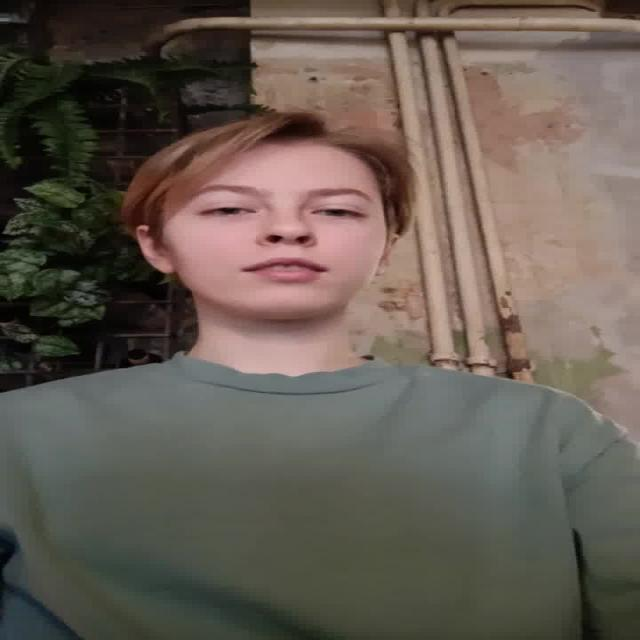earlobe: (149, 256, 176, 276)
eye: (200, 203, 258, 218), (310, 207, 366, 220)
nose: (259, 239, 312, 258)
wholeear: (134, 224, 177, 276)
